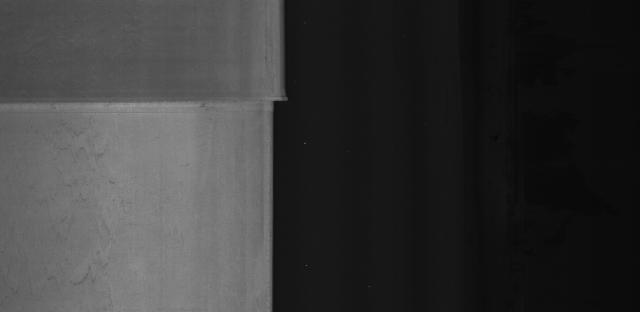silk_spot: (14, 120, 144, 306)
welding_line: (6, 88, 293, 114)
